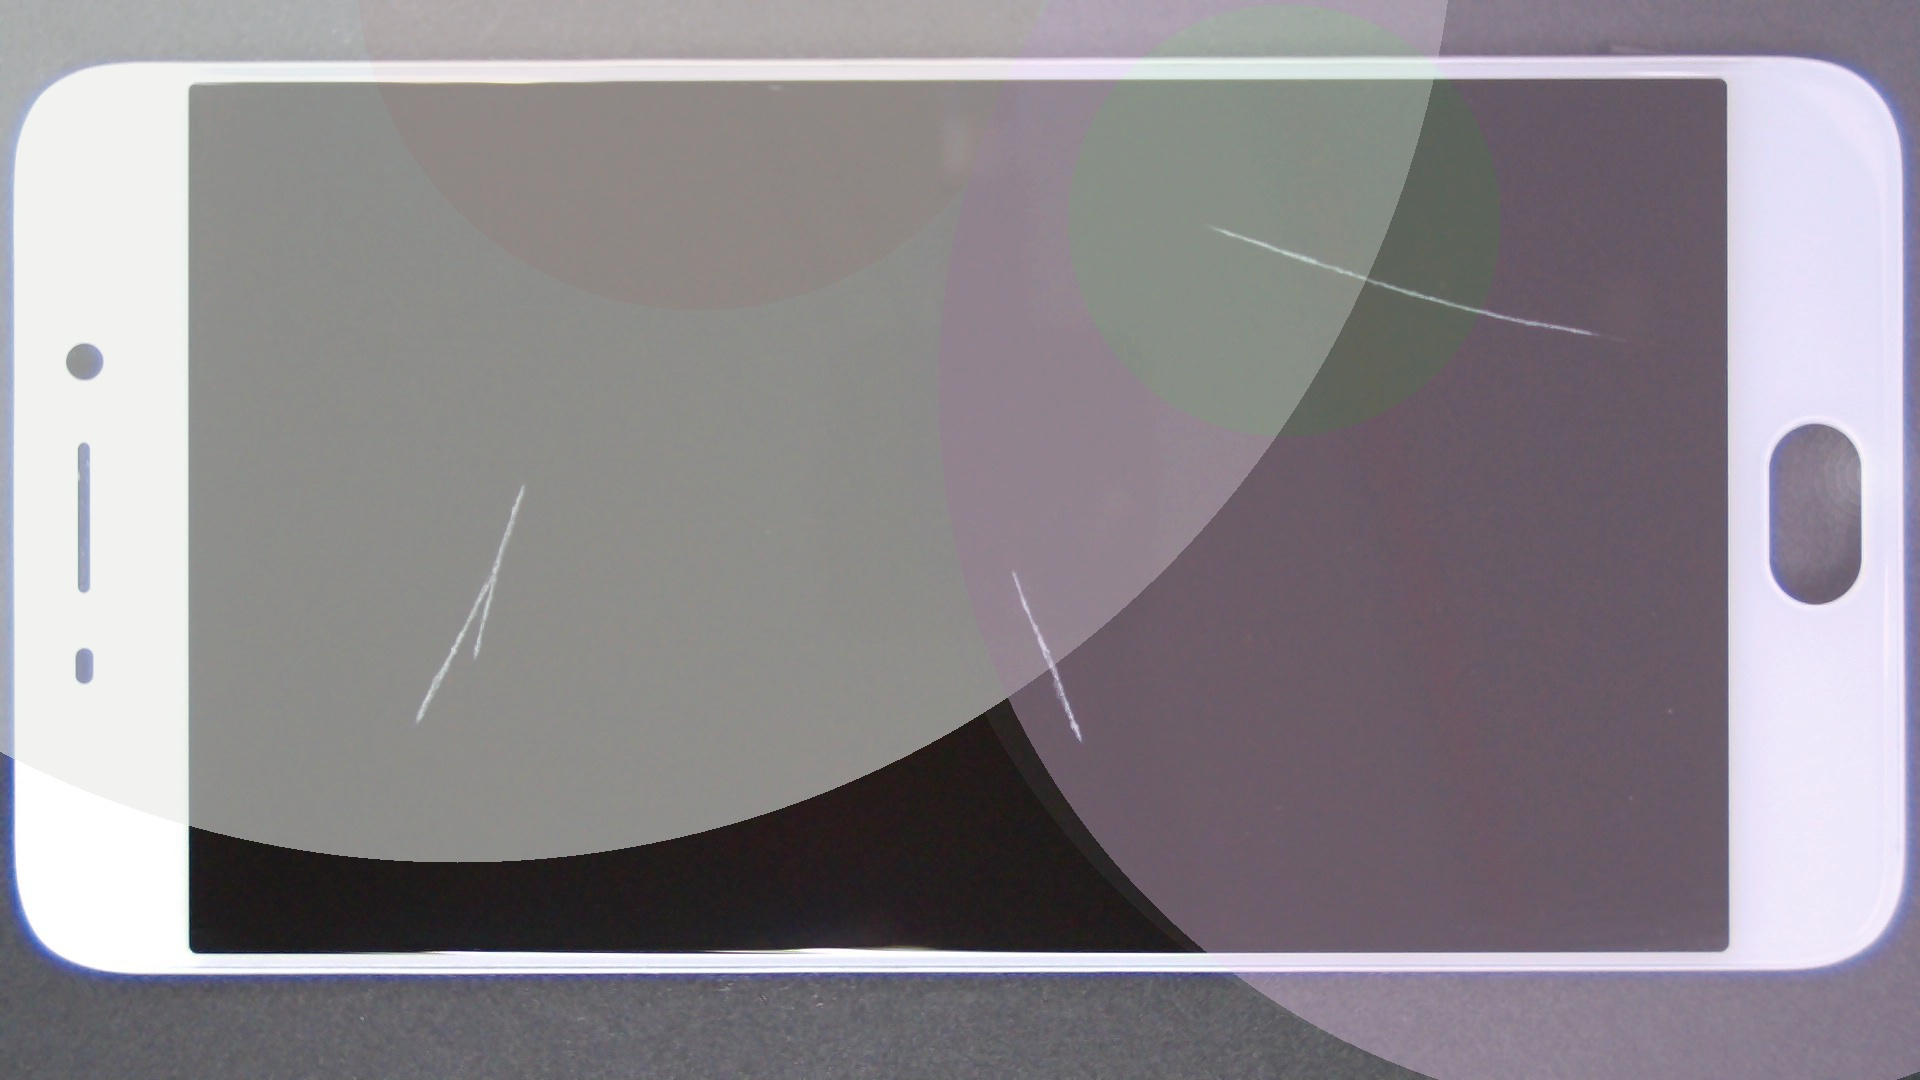oil: (505, 284, 1516, 857), (603, 111, 1812, 338), (261, 241, 782, 727)
